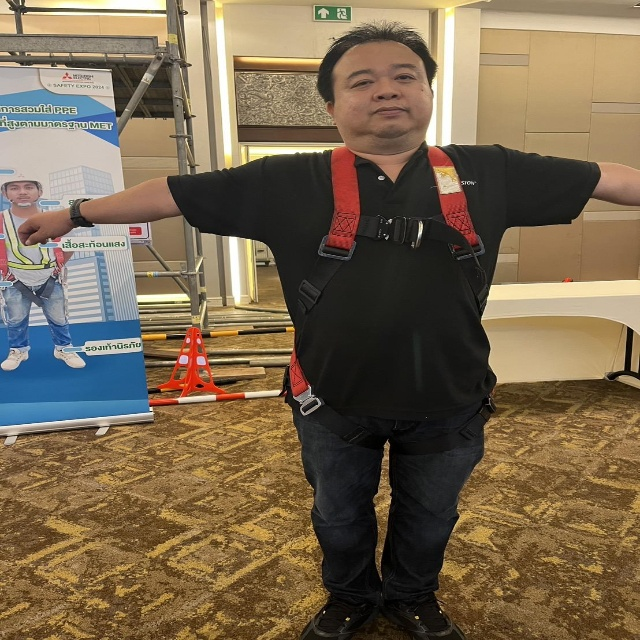Arnes_seguridad: (276, 145, 492, 430)
